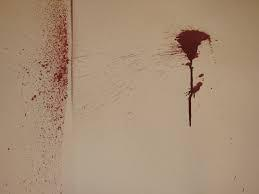Fire: (33, 0, 71, 145), (176, 30, 212, 126), (176, 30, 211, 126), (199, 74, 205, 78)
